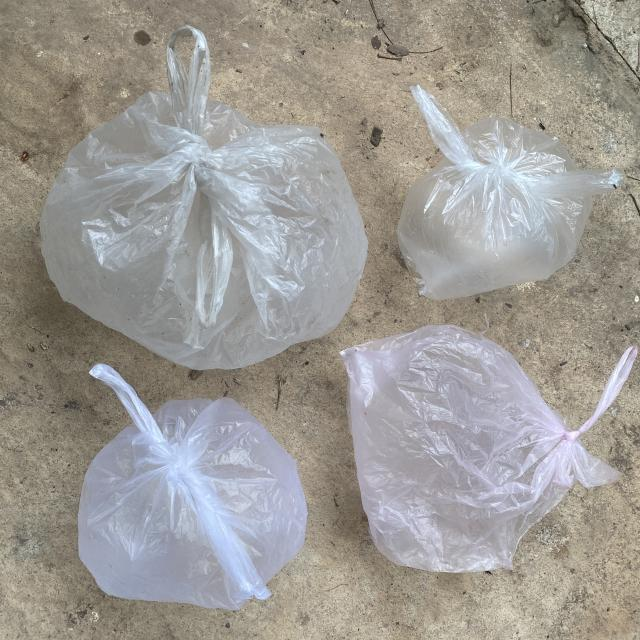Single-layer Plastic: (41, 26, 368, 370), (341, 325, 638, 572), (79, 364, 306, 610), (398, 86, 622, 300)
